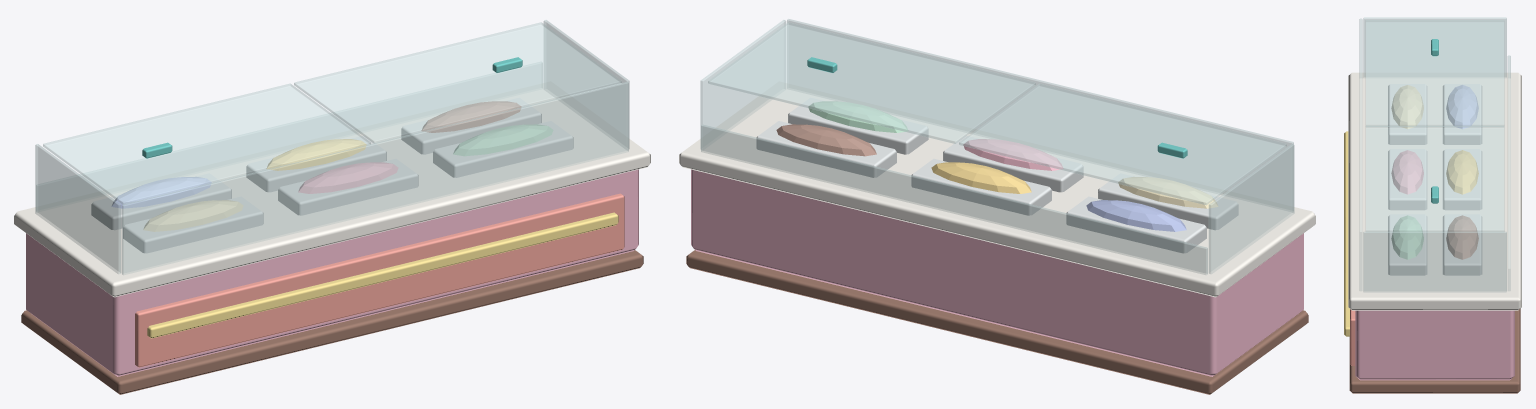
The model's file is ice_cream_display_counter.glb.
3 renders of one model, left to right at view 1: azimuth 30°, elevation 25°; view 2: azimuth 150°, elevation 25°; view 3: azimuth 270°, elevation 25°, orthographic. The views are drawn at different scales.
Visible parts, largest first — view 1: DisplayCounter_GlassFront, DisplayCounter_TopLip, DisplayCounter_FrontInset, DisplayCounter_Base, Display_Lid_Right, Display_Lid_Left, DisplayCounter_GlassBack, DisplayCounter_Platform, DisplayCounter_FrontStripe, DisplayCounter_GlassLeft, DisplayCounter_GlassRight, Display_Tub_03 (+11 smaller); view 2: DisplayCounter_Base, DisplayCounter_TopLip, DisplayCounter_GlassFront, Display_Lid_Right, Display_Lid_Left, DisplayCounter_GlassBack, DisplayCounter_Platform, DisplayCounter_GlassLeft, DisplayCounter_GlassRight, Display_Tub_05, Display_Tub_04, Display_Tub_06 (+9 smaller); view 3: DisplayCounter_TopLip, Display_Lid_Right, Display_Lid_Left, DisplayCounter_Base, DisplayCounter_GlassRight, DisplayCounter_GlassLeft, DisplayCounter_Platform, Display_Tub_05, Display_Tub_06, Display_Tub_04, Display_Tub_02, Display_Tub_03 (+11 smaller).
Part boxes in pixels (x1,y1,x2,y2): DisplayCounter_GlassFront: (122,82,628,274); DisplayCounter_TopLip: (14,81,650,297); DisplayCounter_FrontInset: (135,193,624,367); DisplayCounter_Base: (26,169,638,376); Display_Lid_Right: (294,22,621,143); Display_Lid_Left: (43,83,370,204); DisplayCounter_GlassBack: (36,62,542,210); DisplayCounter_Platform: (21,250,643,394); DisplayCounter_FrontStripe: (147,212,618,338); DisplayCounter_GlassLeft: (35,144,121,273); DisplayCounter_GlassRight: (543,20,629,149); Display_Tub_03: (433,121,573,177); DisplayCounter_Base: (691,169,1303,376); DisplayCounter_TopLip: (679,81,1315,297); DisplayCounter_GlassFront: (787,19,1293,210); Display_Lid_Right: (708,22,1035,143); Display_Lid_Left: (959,83,1286,205); DisplayCounter_GlassBack: (701,124,1207,274); DisplayCounter_Platform: (686,250,1308,394); DisplayCounter_GlassLeft: (1208,144,1294,273); DisplayCounter_GlassRight: (700,20,786,149); Display_Tub_05: (911,158,1051,215); Display_Tub_04: (1066,196,1206,253); Display_Tub_06: (756,121,896,177); DisplayCounter_TopLip: (1348,72,1521,310); Display_Lid_Right: (1365,125,1504,232); Display_Lid_Left: (1365,20,1504,126); DisplayCounter_Base: (1355,310,1514,380); DisplayCounter_GlassRight: (1363,231,1506,292); DisplayCounter_GlassLeft: (1363,17,1506,77); DisplayCounter_Platform: (1349,309,1520,393); Display_Tub_05: (1442,149,1482,210); Display_Tub_06: (1442,214,1482,275); Display_Tub_04: (1442,84,1482,144); Display_Tub_02: (1388,149,1427,210); Display_Tub_03: (1388,214,1427,275).
Bounding box in the file's own units: 4.72 × 1.61 × 1.56.
